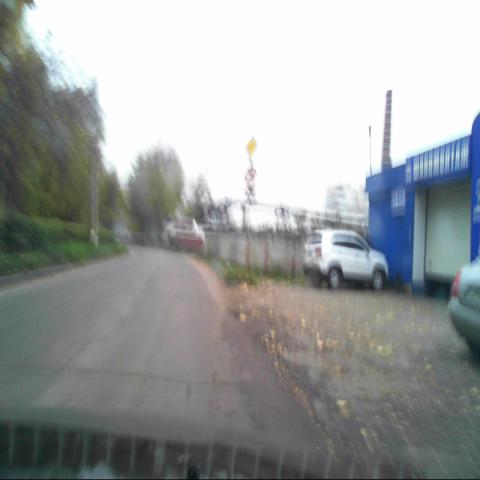2_1: (245, 135, 258, 160)
3_18_2: (245, 167, 257, 188)
